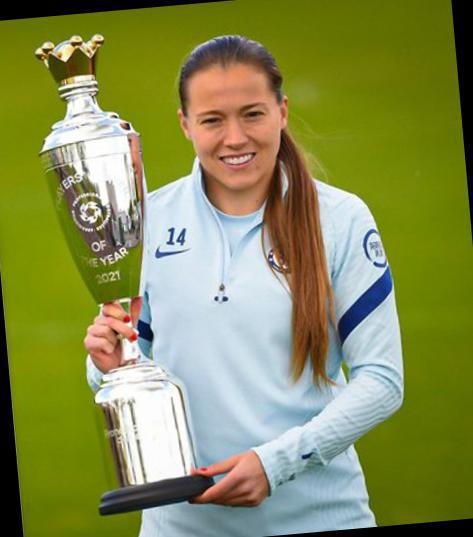Sober: (189, 76, 278, 179)
